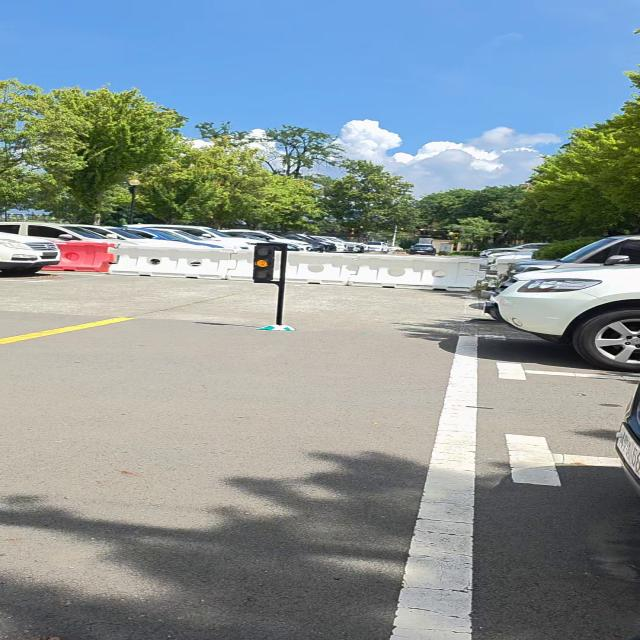yellow: (252, 244, 276, 282)
